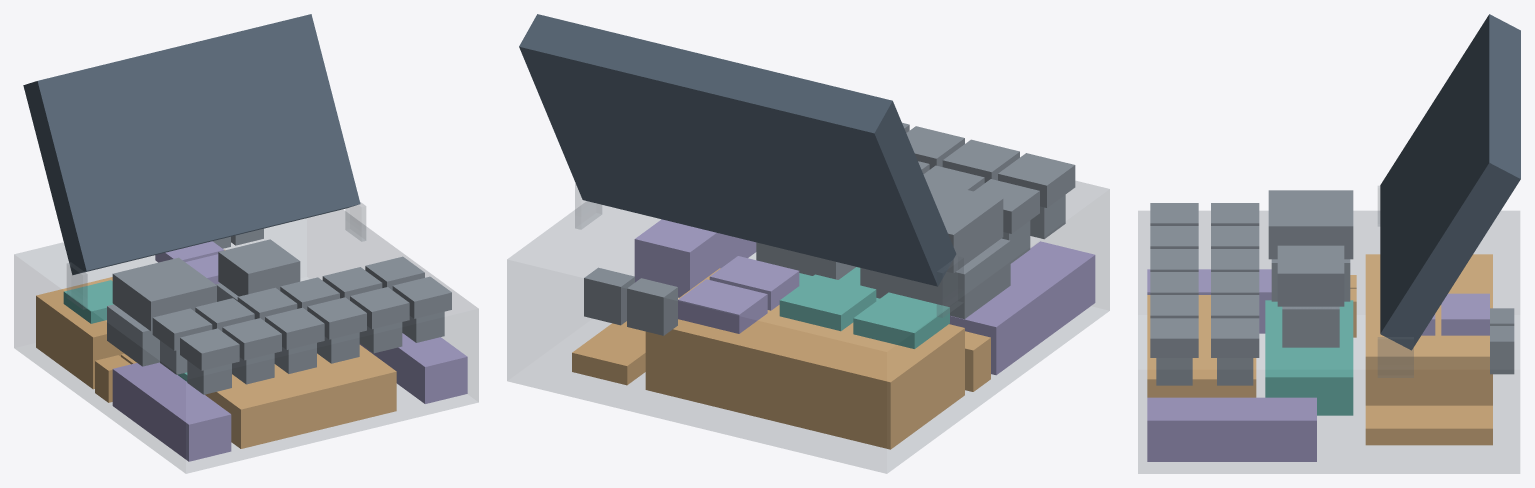
The model's file is doble-fila.glb.
3 views of the same model, side by side, from view 1: azimuth 30°, elevation 25°; view 2: azimuth 150°, elevation 25°; view 3: azimuth 270°, elevation 25° (orthographic). The views are drawn at different scales.
Parts seen in each view (by area): view 1: Pantalla 4″ con bisel provisional, Volumen de carcasa propuesto, LM2596S + voltímetro, Parlante izquierdo, Joystick (×2), Portaceldas + 2×18650, Parlante derecho, Encoder, 1, 2, 3, 5 (+20 smaller); view 2: Volumen de carcasa propuesto, Pantalla 4″ con bisel provisional, Portaceldas + 2×18650, Parlante izquierdo, Joystick (×2), Parlante derecho, NeoPixel zona 1 · 4 LEDs, NeoPixel zona 2 · 4 LEDs, MAX98357A R, BMS 2S USB-C, MAX98357A L, SW-CELDAS (+11 smaller); view 3: Volumen de carcasa propuesto, Pantalla 4″ con bisel provisional, Portaceldas + 2×18650, Parlante derecho, ESP32-S3, Encoder (×2), Joystick (×2), BMS 2S USB-C, LM2596S + voltímetro, MAX98357A R, ALT1, ALT2 (+16 smaller).
Boxes of the visible parts, <box> form: Pantalla 4″ con bisel provisional: <box>23,14,360,275</box>; Volumen de carcasa propuesto: <box>14,209,478,473</box>; LM2596S + voltímetro: <box>205,345,396,448</box>; Parlante izquierdo: <box>112,362,231,461</box>; Joystick (×2): <box>107,257,216,366</box>; Portaceldas + 2×18650: <box>36,249,225,389</box>; Parlante derecho: <box>359,333,467,403</box>; Encoder: <box>218,239,300,296</box>; 1: <box>180,328,239,370</box>; 2: <box>222,318,281,360</box>; 3: <box>265,307,324,349</box>; 5: <box>350,287,409,329</box>; Volumen de carcasa propuesto: <box>507,181,1109,473</box>; Pantalla 4″ con bisel provisional: <box>519,14,956,286</box>; Portaceldas + 2×18650: <box>645,268,964,449</box>; Parlante izquierdo: <box>949,241,1095,375</box>; Joystick (×2): <box>860,180,1010,319</box>; Parlante derecho: <box>634,219,756,297</box>; NeoPixel zona 1 · 4 LEDs: <box>853,292,949,348</box>; NeoPixel zona 2 · 4 LEDs: <box>779,274,876,331</box>; MAX98357A R: <box>678,279,767,333</box>; BMS 2S USB-C: <box>572,321,645,385</box>; MAX98357A L: <box>709,256,799,310</box>; SW-CELDAS: <box>627,278,677,335</box>; Volumen de carcasa propuesto: <box>1138,211,1519,473</box>; Pantalla 4″ con bisel provisional: <box>1380,14,1520,350</box>; Portaceldas + 2×18650: <box>1365,254,1492,405</box>; Parlante derecho: <box>1147,397,1316,461</box>; ESP32-S3: <box>1265,300,1353,415</box>; Encoder (×2): <box>1277,245,1344,347</box>; Joystick (×2): <box>1268,190,1353,301</box>; BMS 2S USB-C: <box>1365,405,1492,445</box>; LM2596S + voltímetro: <box>1147,295,1256,397</box>; MAX98357A R: <box>1441,293,1489,335</box>; ALT1: <box>1150,318,1198,357</box>; ALT2: <box>1211,318,1259,357</box>.
Size of the model in its own units: 0.124 by 0.1114 by 0.1262.
